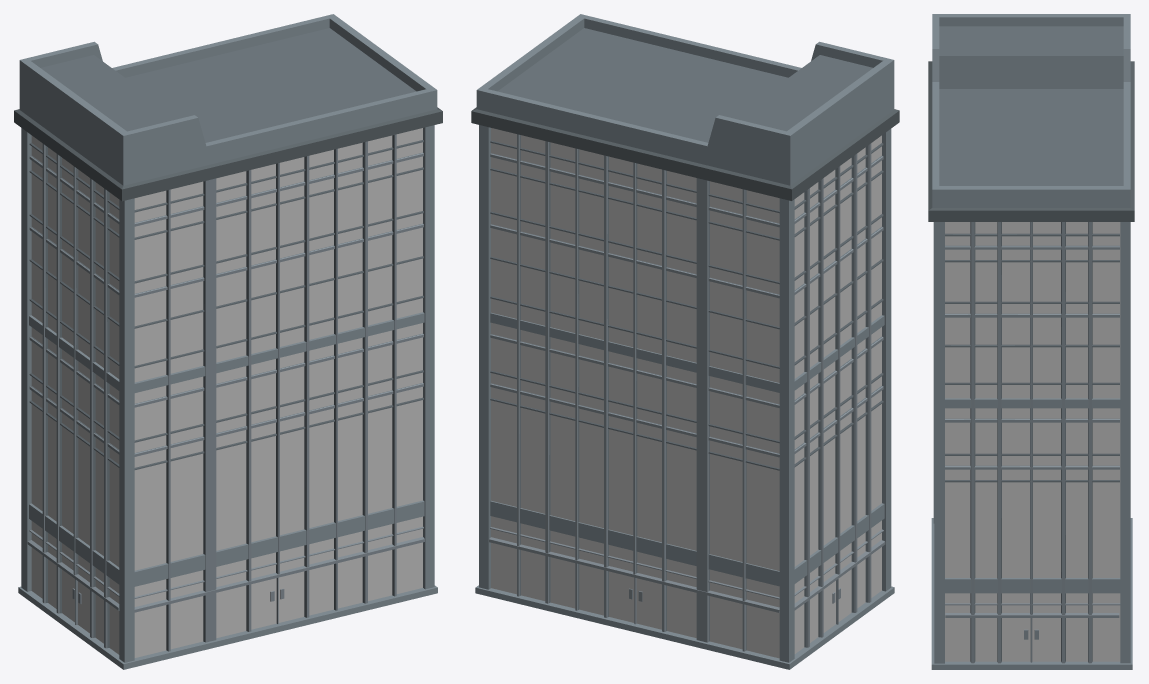
Rendered from SM_Gen_Bld_Background_09.fbx.
The picture shows the model from 3 angles, left to right: view 1: azimuth 30°, elevation 25°; view 2: azimuth 150°, elevation 25°; view 3: azimuth 270°, elevation 25°; orthographic projection. The views are drawn at different scales.
Visible parts, largest first — view 1: SM_Gen_Bld_Background_09; view 2: SM_Gen_Bld_Background_09; view 3: SM_Gen_Bld_Background_09.
Boxes of the visible parts, box(x1,y1,x2,y2) form: SM_Gen_Bld_Background_09: box(14, 14, 442, 669); SM_Gen_Bld_Background_09: box(471, 14, 899, 669); SM_Gen_Bld_Background_09: box(928, 14, 1134, 669).
Size of the model in its own units: 1384 by 2198 by 806.
